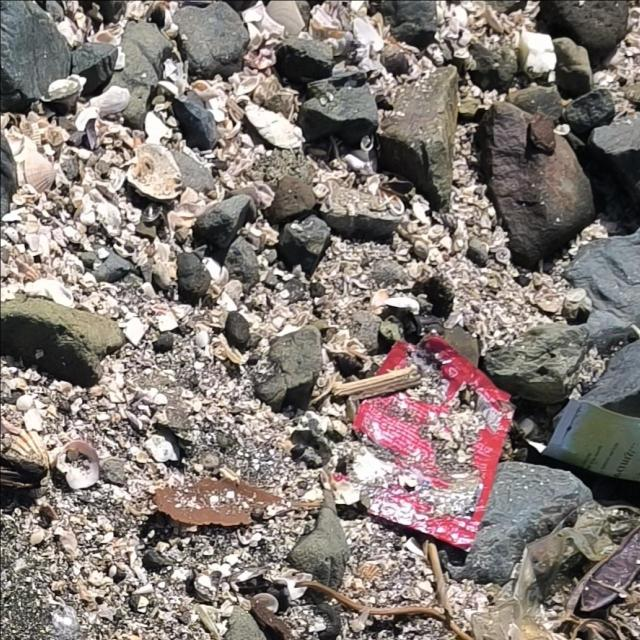plastic_waste: (328, 333, 518, 555)
